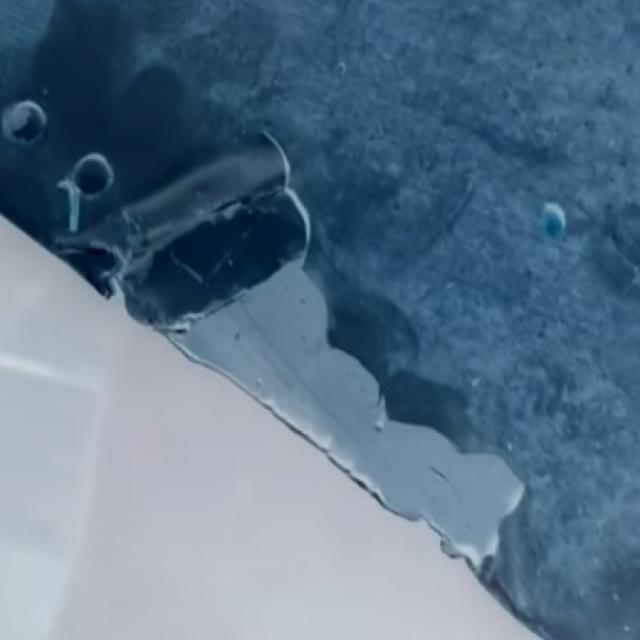crack: (272, 159, 312, 269)
